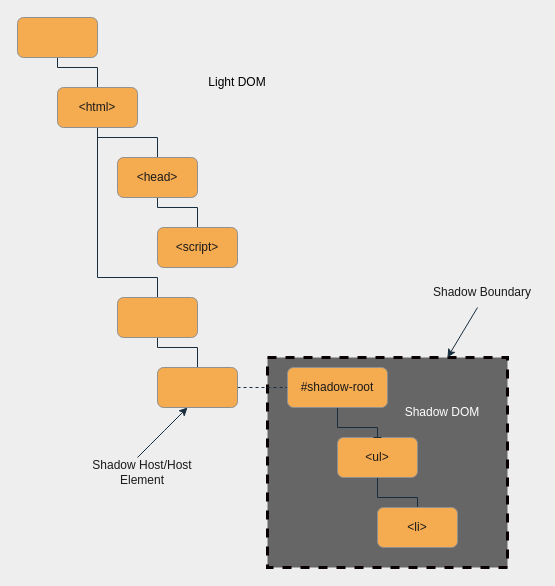
Image size: 555x586. Some labels were removed from this diagram. The centre of each missing label's shape, as x and y in pixels:
"<body>" goes at point 157,317.
"<div>" goes at point 197,387.
"document" goes at point 57,37.
